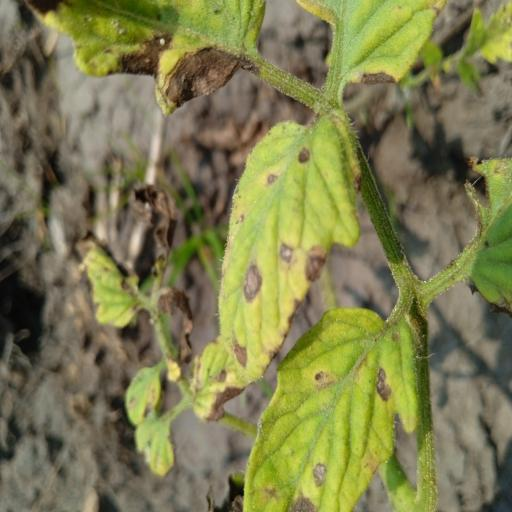Tomato_Brown_Spots: (216, 102, 369, 400), (243, 306, 428, 512)
